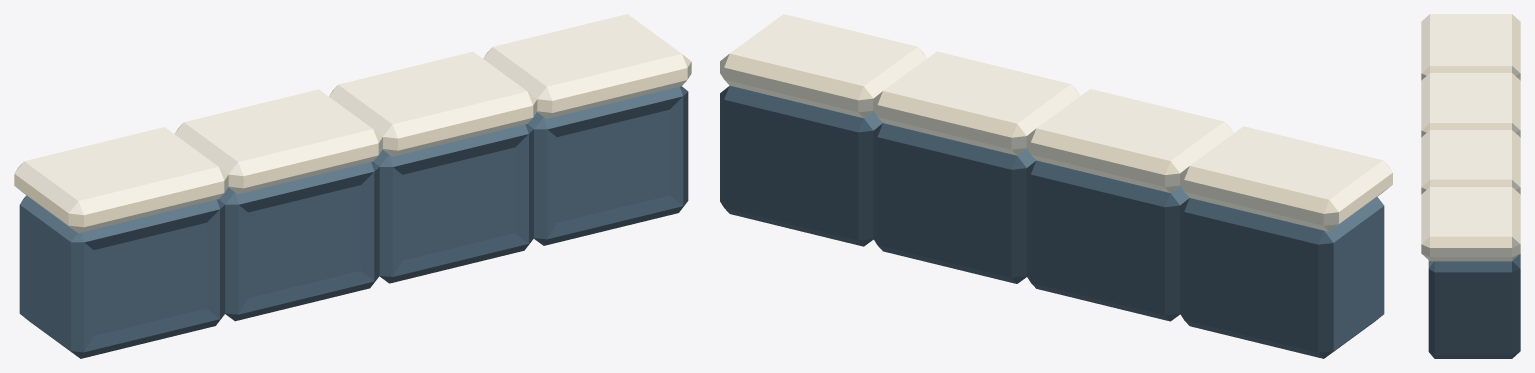
File: Terrain_TopRun4L.gltf
3 views of the same model, side by side, from view 1: azimuth 30°, elevation 25°; view 2: azimuth 150°, elevation 25°; view 3: azimuth 270°, elevation 25° (orthographic). The views are drawn at different scales.
Visible parts, largest first — view 1: Terrain_TopRun4L_baked; view 2: Terrain_TopRun4L_baked; view 3: Terrain_TopRun4L_baked.
Part boxes in pixels (x1=…): Terrain_TopRun4L_baked: x1=14, y1=14, x2=691, y2=358; Terrain_TopRun4L_baked: x1=720, y1=14, x2=1392, y2=358; Terrain_TopRun4L_baked: x1=1421, y1=14, x2=1520, y2=358.
Bounding box in the file's own units: 4.04 × 1 × 0.735.
